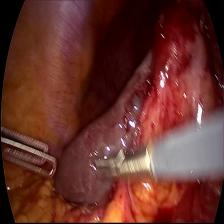Grasper: (0, 123, 61, 185), (92, 141, 151, 197)
